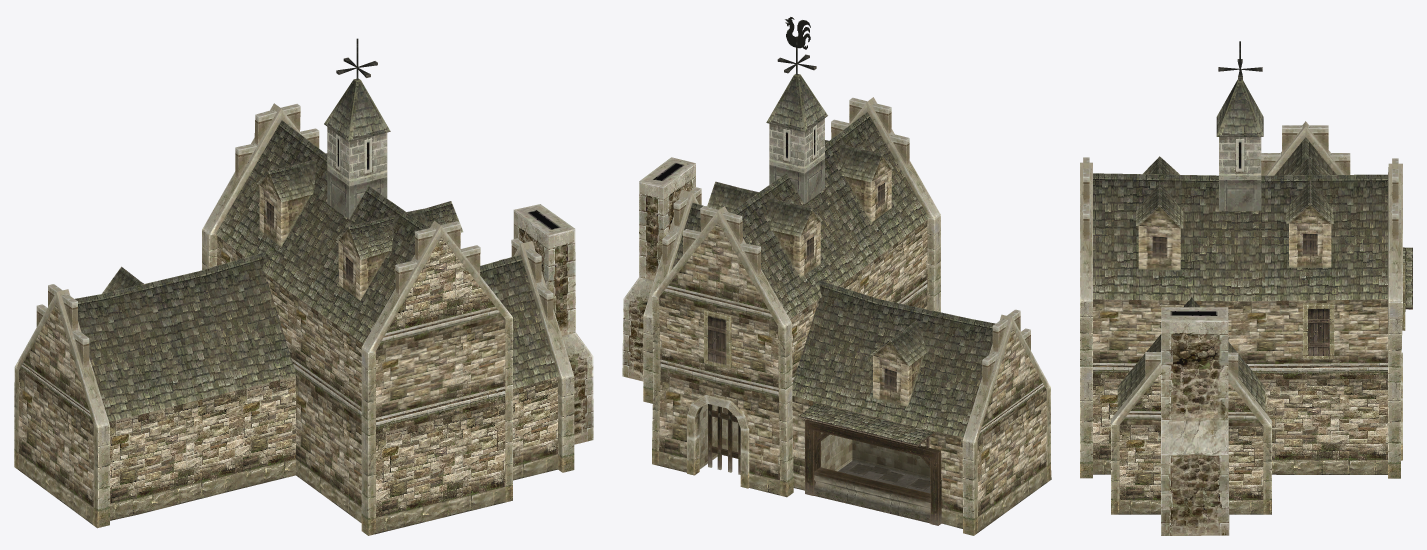
The model's file is OZ_09_sn_T03shop01A.glb.
3 renders of one model, left to right at view 1: azimuth 30°, elevation 25°; view 2: azimuth 150°, elevation 25°; view 3: azimuth 270°, elevation 25°, orthographic. The views are drawn at different scales.
Parts seen in each view (by area): view 1: OM_09_sn_T03shop01A; view 2: OM_09_sn_T03shop01A; view 3: OM_09_sn_T03shop01A.
Part boxes in pixels (x1,y1,x2,y2): OM_09_sn_T03shop01A: [14, 38, 593, 535]; OM_09_sn_T03shop01A: [622, 17, 1051, 535]; OM_09_sn_T03shop01A: [1080, 41, 1412, 535].
Bounding box in the file's own units: 19.41 × 17.63 × 12.57.
Materials: 7 (7 with a texture image).
